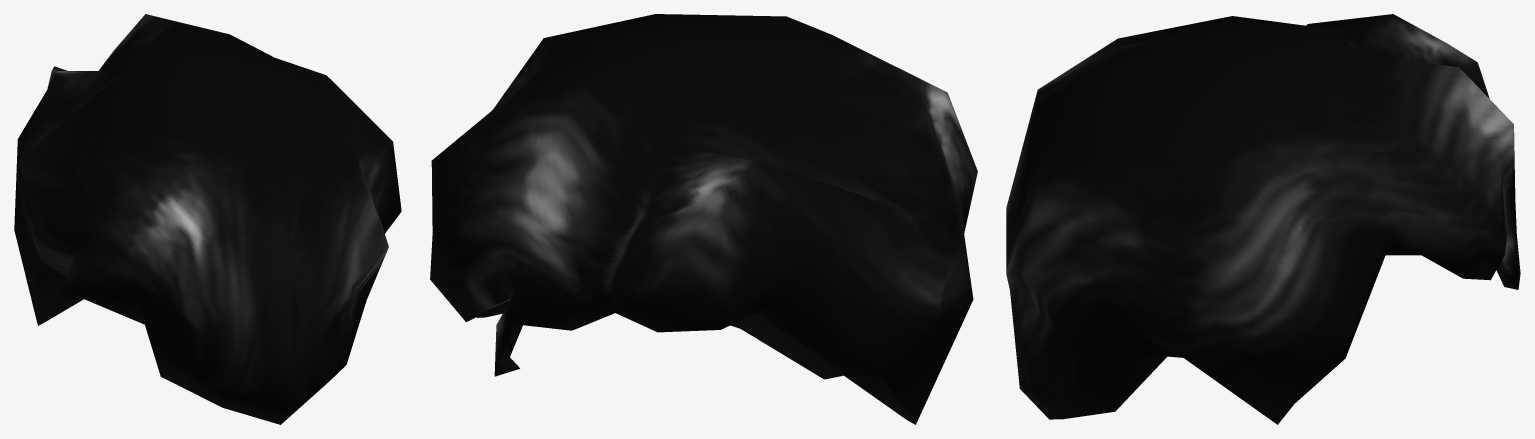
3 views of the same model, side by side, from view 1: azimuth 30°, elevation 25°; view 2: azimuth 150°, elevation 25°; view 3: azimuth 270°, elevation 25° (orthographic). The views are drawn at different scales.
Parts seen in each view (by area): view 1: geometry_0; view 2: geometry_0; view 3: geometry_0.
Part boxes in pixels (x1,y1,x2,y2): geometry_0: [14, 14, 401, 424]; geometry_0: [430, 14, 977, 424]; geometry_0: [1006, 14, 1520, 424].
Size of the model in its own units: 1.41 by 1.18 by 1.44.
1 material, 1 textured.
